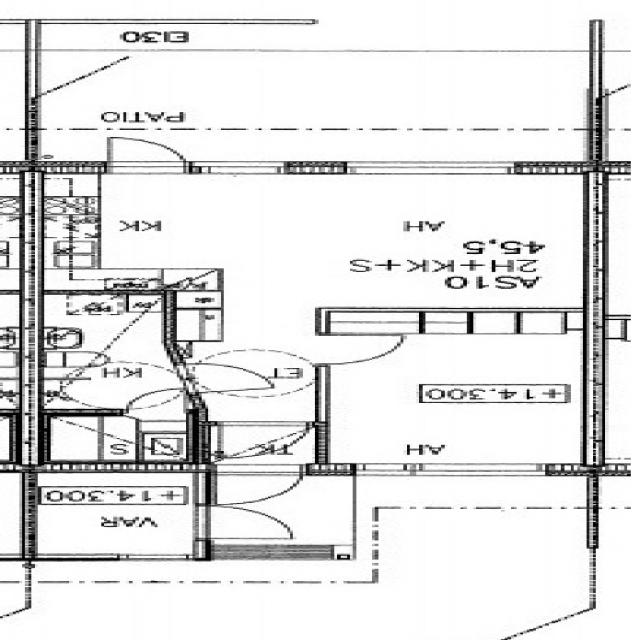door: (216, 464, 301, 508), (177, 358, 275, 394), (218, 422, 307, 458), (108, 132, 184, 174), (200, 506, 296, 538), (314, 335, 399, 364), (127, 386, 187, 416)
